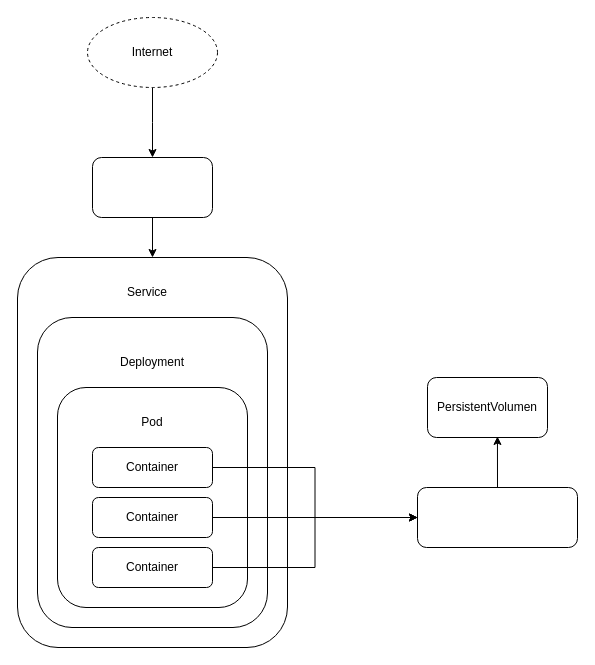
Some shapes in this 595 by 665 pixel diagram are drawn without their labels. The shapes that lost their labels are listed below. From the top down, each one's centre as x and y in pixels, then its label:
the point at 152,187: Ingress
the point at 497,517: PersistentVolumenClaim
